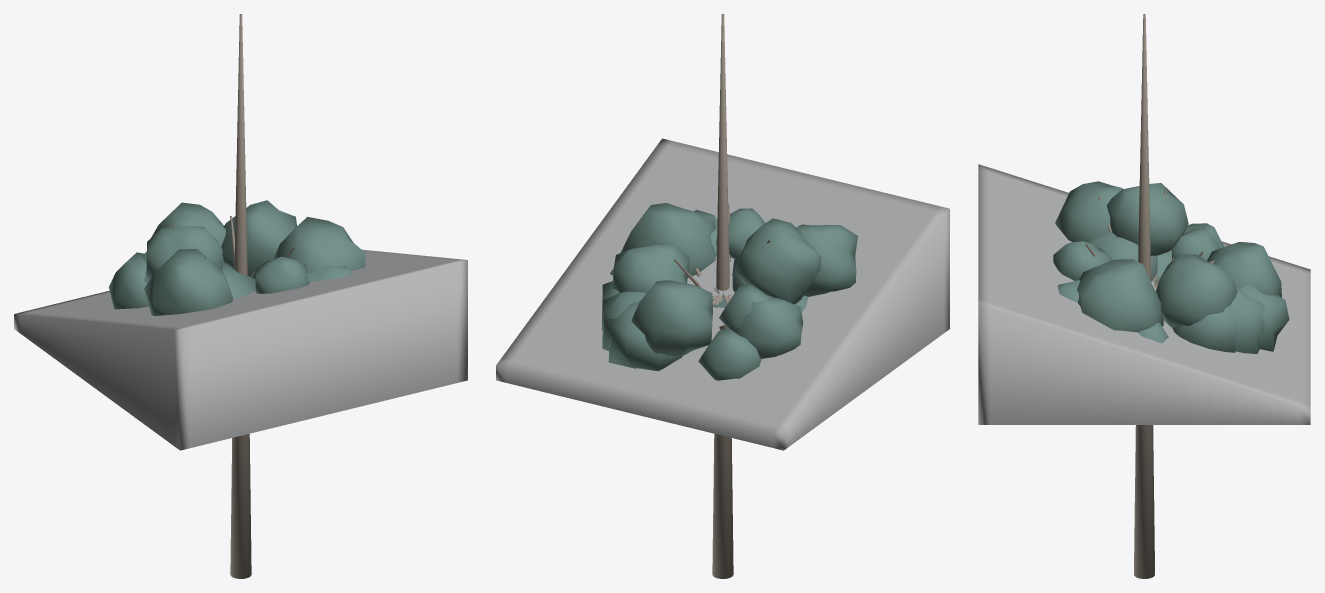
Rendered from alpine_and_arctic_biomes.glb.
3 views of the same model, side by side, from view 1: azimuth 30°, elevation 25°; view 2: azimuth 150°, elevation 25°; view 3: azimuth 270°, elevation 25° (orthographic).
Visible parts, largest first — view 1: 003-scree-slope/0, 001-dwarf-mountain-pine/1, 000-wind-flagged-spruce/0, 002-krummholz-pine/1; view 2: 003-scree-slope/0, 001-dwarf-mountain-pine/1, 002-krummholz-pine/1, 000-wind-flagged-spruce/0; view 3: 003-scree-slope/0, 001-dwarf-mountain-pine/1, 002-krummholz-pine/1, 000-wind-flagged-spruce/0.
Boxes of the visible parts, <box> form: 003-scree-slope/0: <box>14,249,467,450</box>; 001-dwarf-mountain-pine/1: <box>143,200,365,315</box>; 000-wind-flagged-spruce/0: <box>230,14,251,578</box>; 002-krummholz-pine/1: <box>109,202,225,309</box>; 003-scree-slope/0: <box>496,138,949,450</box>; 001-dwarf-mountain-pine/1: <box>602,203,857,350</box>; 002-krummholz-pine/1: <box>601,280,803,380</box>; 000-wind-flagged-spruce/0: <box>712,14,733,578</box>; 003-scree-slope/0: <box>978,164,1310,424</box>; 001-dwarf-mountain-pine/1: <box>1053,181,1265,353</box>; 002-krummholz-pine/1: <box>1172,223,1289,352</box>; 000-wind-flagged-spruce/0: <box>1134,14,1154,578</box>.
Bounding box in the file's own units: 131068 × 243786 × 131068.
